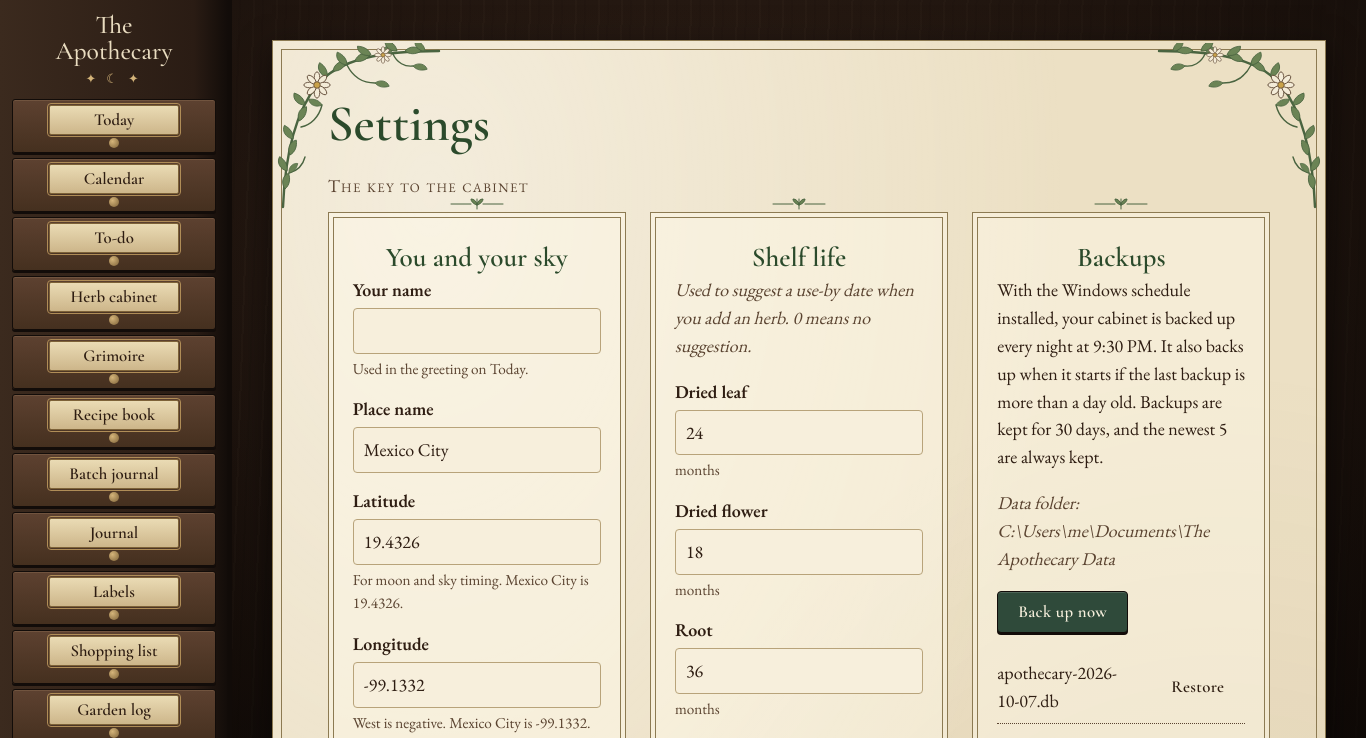
asks before restoring
Click the button with aria-label "Restore apothecary-2026-10-07.db": (1198, 687) [1150,666,1245,708]
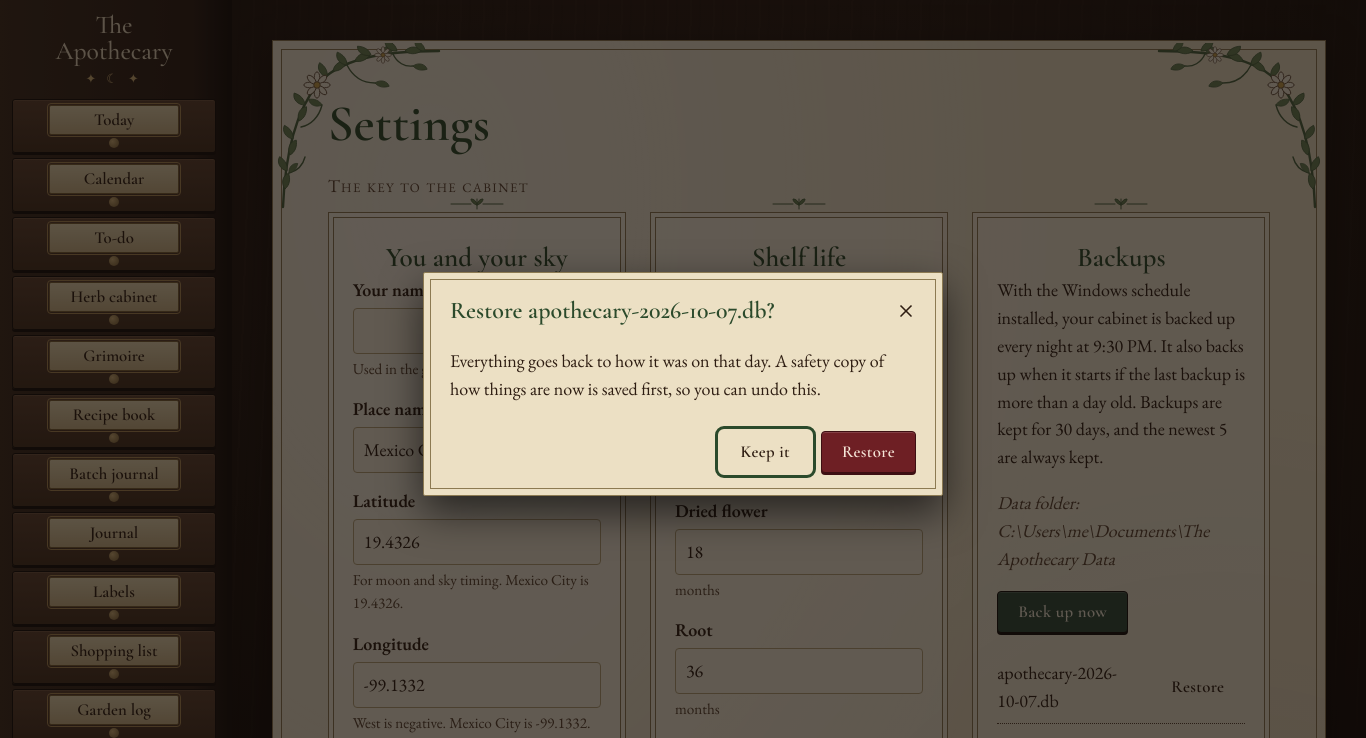
Expected: the text "safety copy" is shown, [450,349,884,400]
